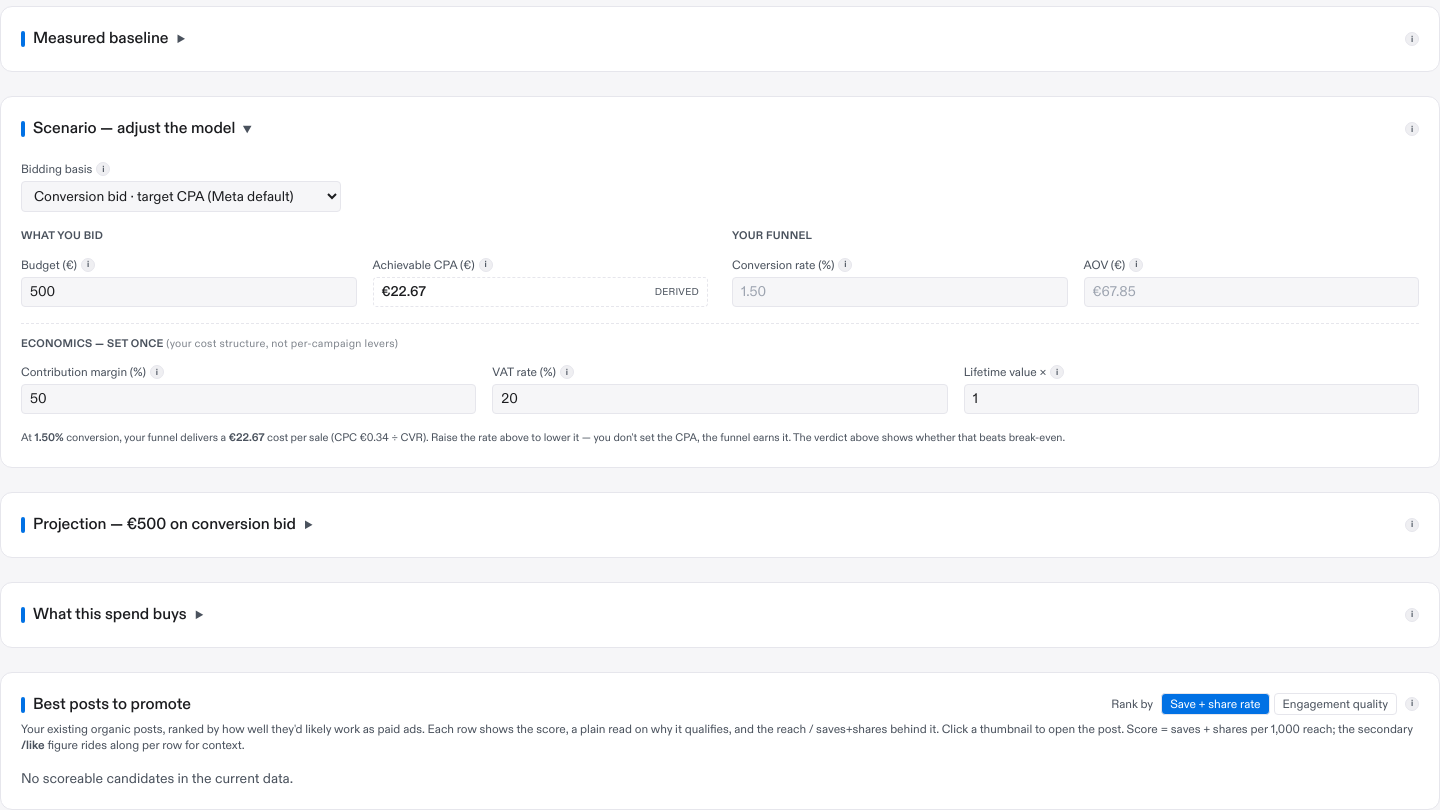
Scenario: PaidPanel wiring › editing CVR moves the PROJECTION output, not just the readout line
This screenshot has width=1440, height=810.
(page scrolled)
Click the button "Projection — €500 on conversion bid ▶".
click(167, 525)  # box [21,513,313,537]
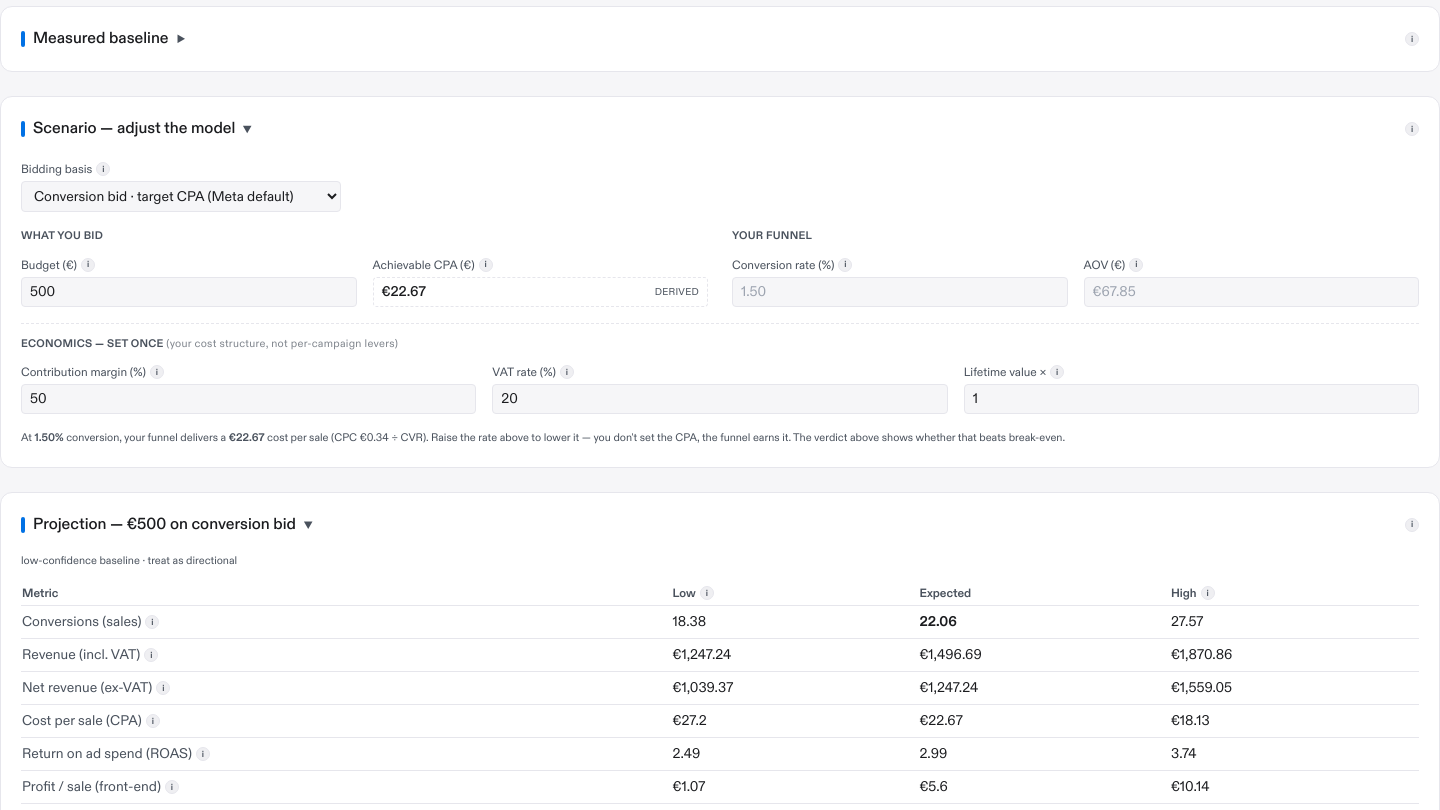
Now the text "18.38" is shown, box [672,606,918,639]
Type "15" into the field with placeholder "1.50".
click(900, 292); type("15")  # box [732,277,1068,307]
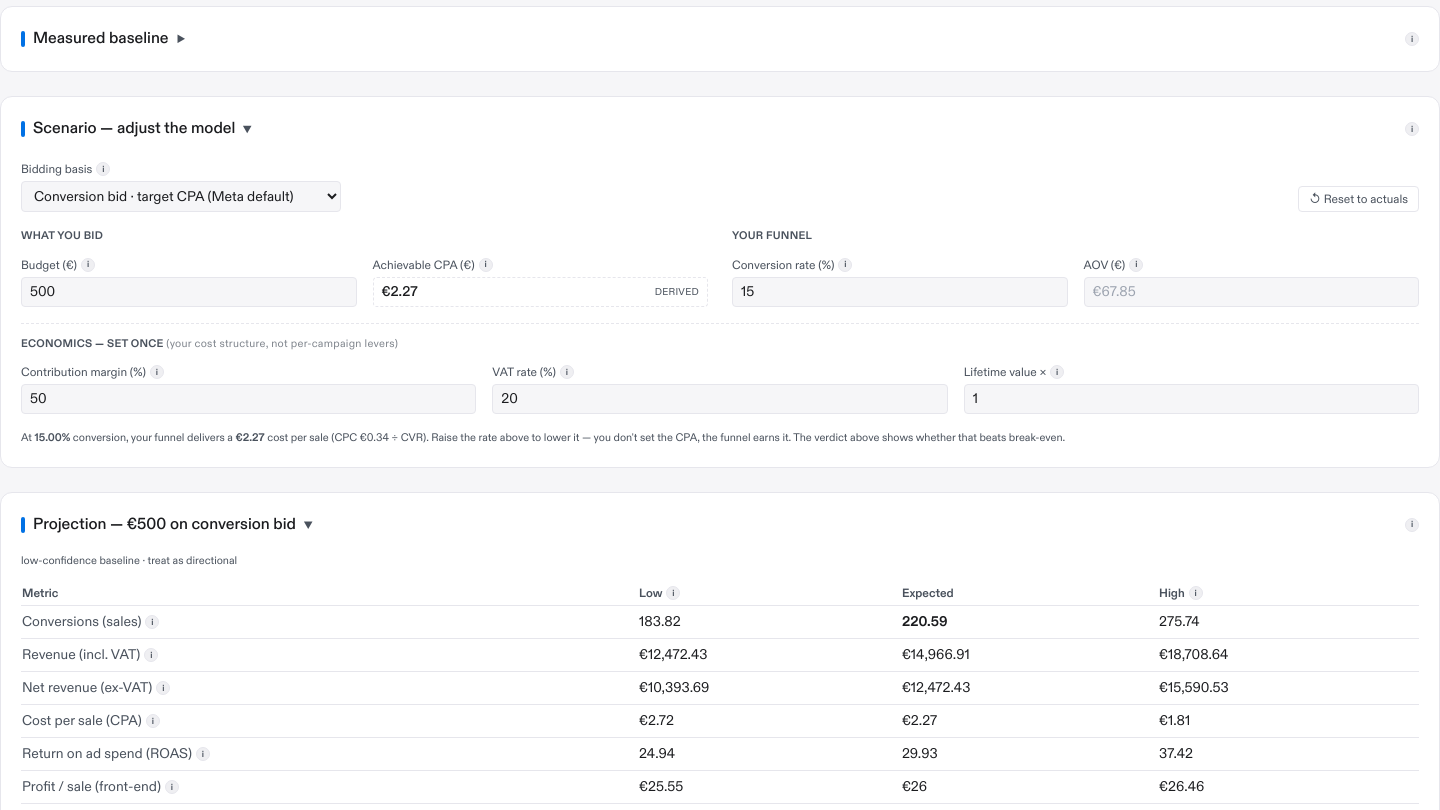
Now the text "183.82" is shown, box [638,606,901,639]
